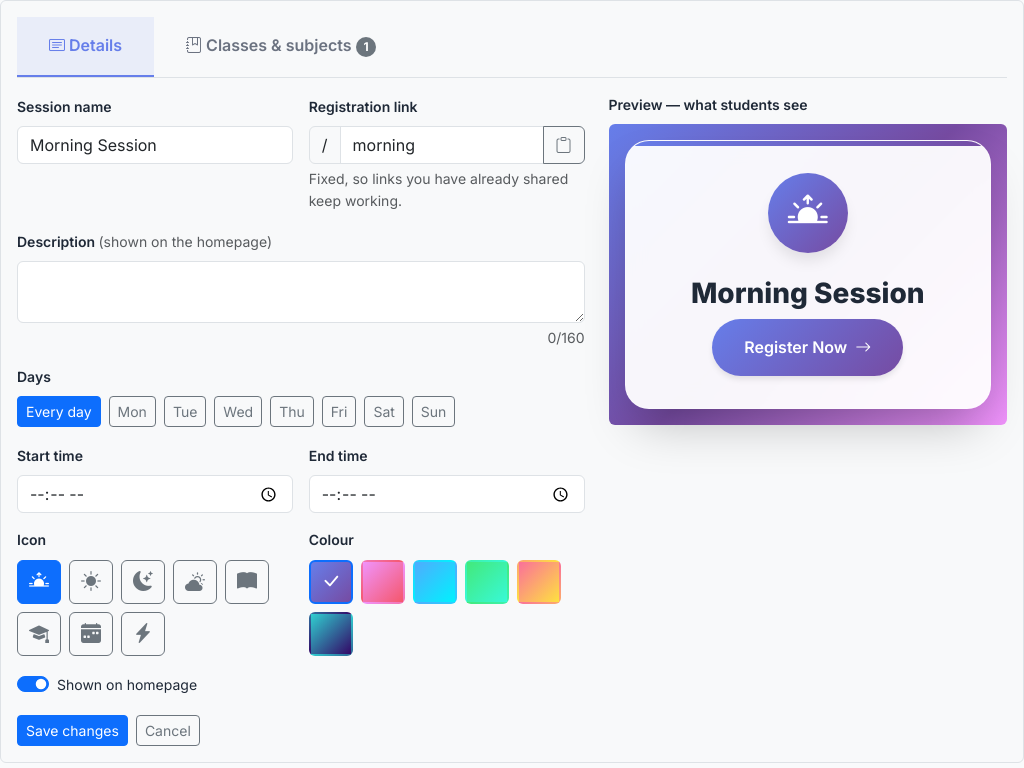
Scenario: SessionEditor: classes students can choose › the last class cannot be removed
Click the tab "Classes & subjects 1" at point(281, 46), box [154,17,408,75]
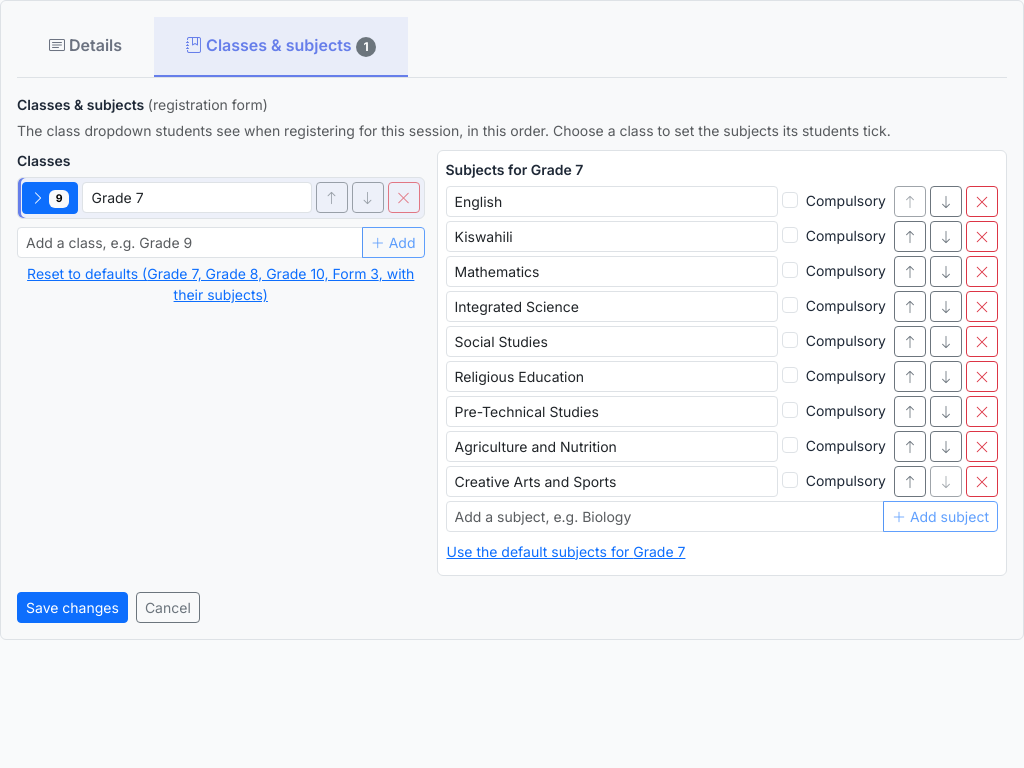
expect the button named "Remove Grade 7" is disabled: met, box [388,182,420,213]
